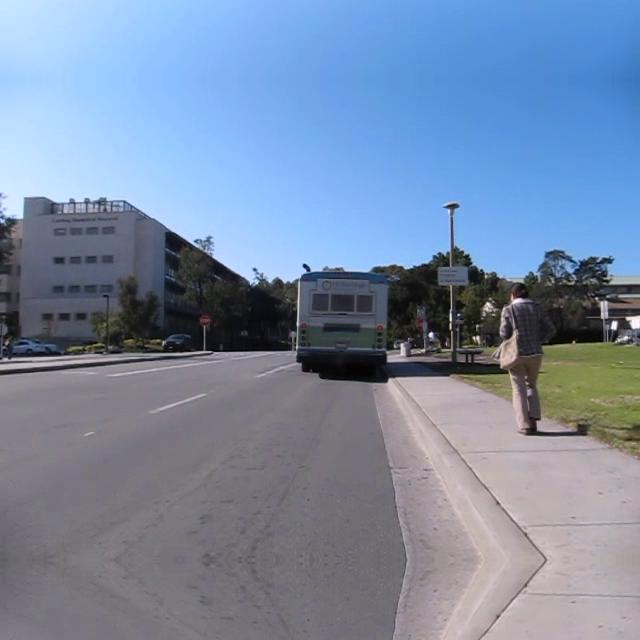stop: (198, 313, 210, 327), (414, 317, 426, 331)
